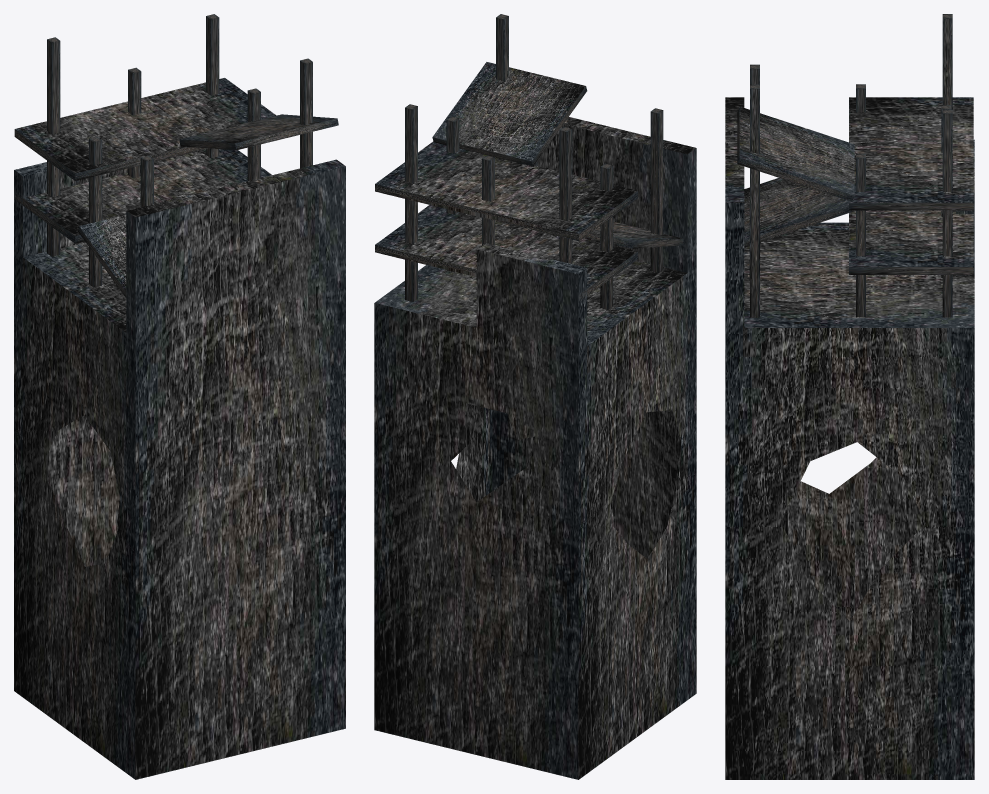
File: House_razrushen.FBX
The picture shows the model from 3 angles, left to right: view 1: azimuth 30°, elevation 25°; view 2: azimuth 150°, elevation 25°; view 3: azimuth 270°, elevation 25°; orthographic projection. The views are drawn at different scales.
Visible parts, largest first — view 1: Box070; view 2: Box070; view 3: Box070.
Boxes of the visible parts, x1,y1,x2,y2 form: Box070: (14,14,345,779); Box070: (374,14,696,779); Box070: (725,14,974,779).
Size of the model in its own units: 25 by 75.29 by 25.
1 material, 1 textured.
